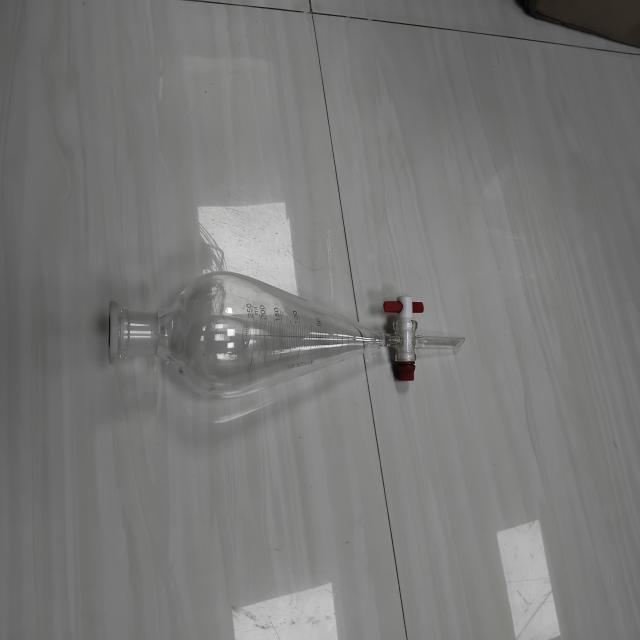Separating_Funnel: (90, 202, 492, 458)
